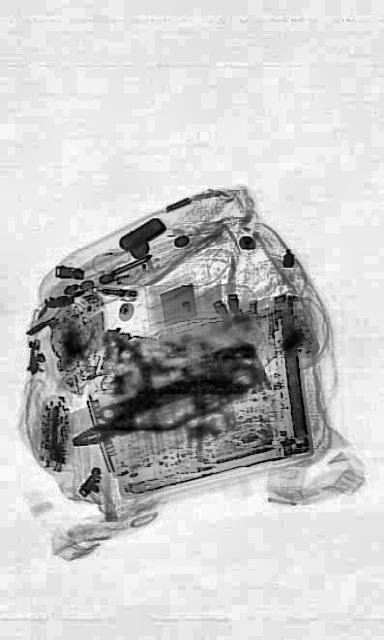Pliers: (66, 358, 222, 468)
